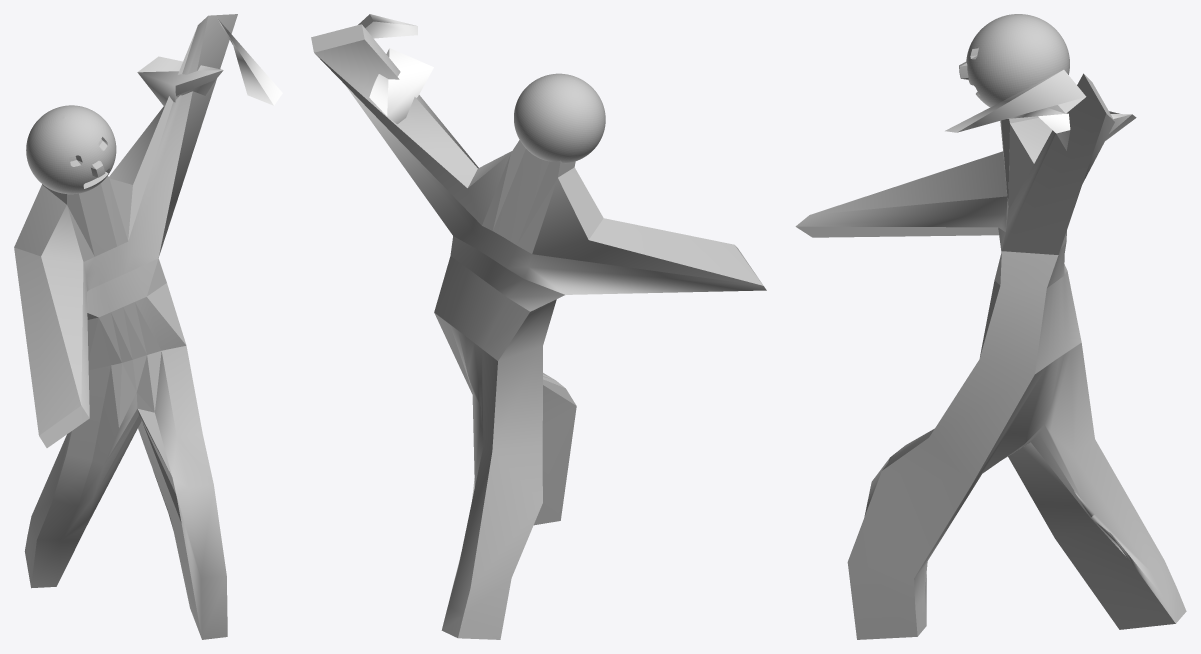
File: attack1.obj
3 views of the same model, side by side, from view 1: azimuth 30°, elevation 25°; view 2: azimuth 150°, elevation 25°; view 3: azimuth 270°, elevation 25° (orthographic). The views are drawn at different scales.
Visible parts, largest first — view 1: 球.003_球.003mesh, 立方体.001_立方体.001mesh; view 2: 球.003_球.003mesh, 立方体.001_立方体.001mesh; view 3: 球.003_球.003mesh, 立方体.001_立方体.001mesh.
Part boxes in pixels (x1,y1,x2,y2): 球.003_球.003mesh: (14,14,237,639); 立方体.001_立方体.001mesh: (137,19,282,106); 球.003_球.003mesh: (311,24,766,639); 立方体.001_立方体.001mesh: (358,14,433,124); 球.003_球.003mesh: (795,14,1186,639); 立方体.001_立方体.001mesh: (945,69,1136,150).
Size of the model in its own units: 1.59 by 2.61 by 1.45.
